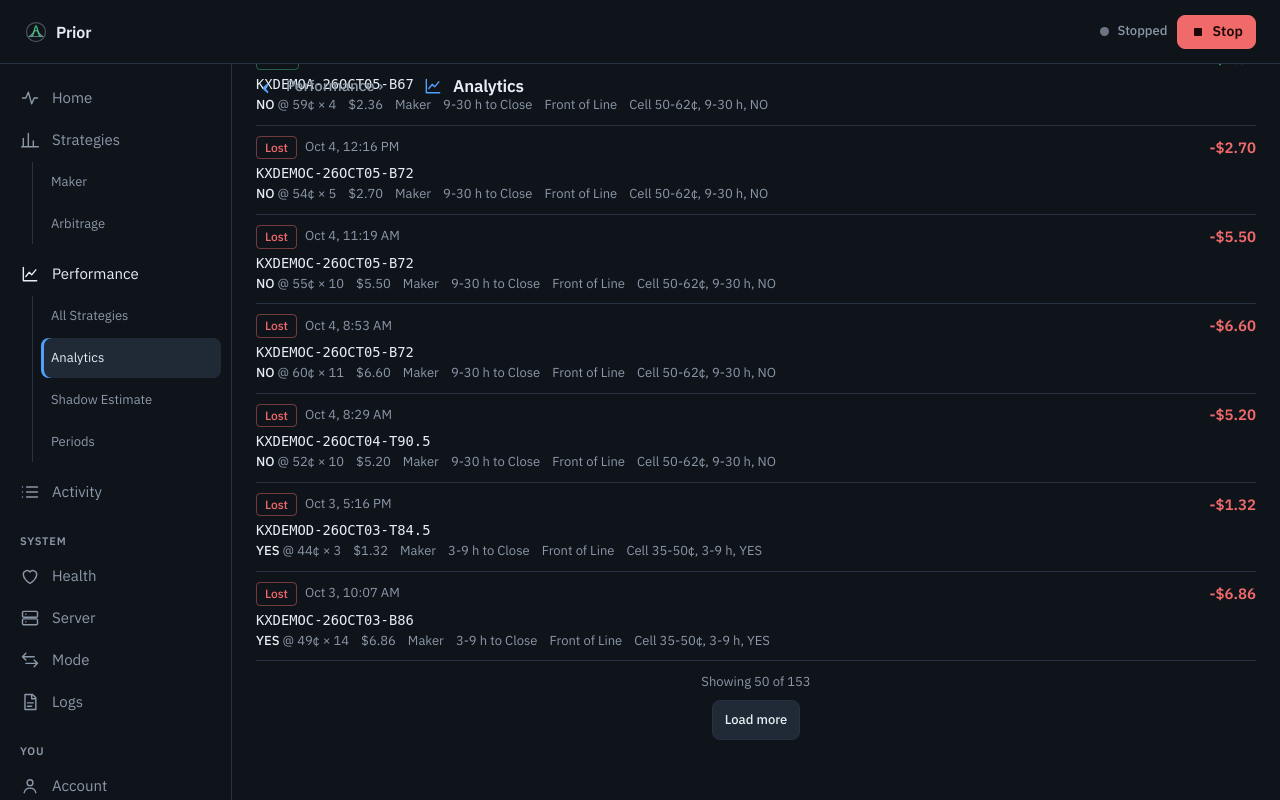
Analytics page › Load more requests the next page and appends it
(page scrolled)
Click the button "Load more".
click(756, 720)  # box left=712, top=700, right=800, bottom=740
(page scrolled)
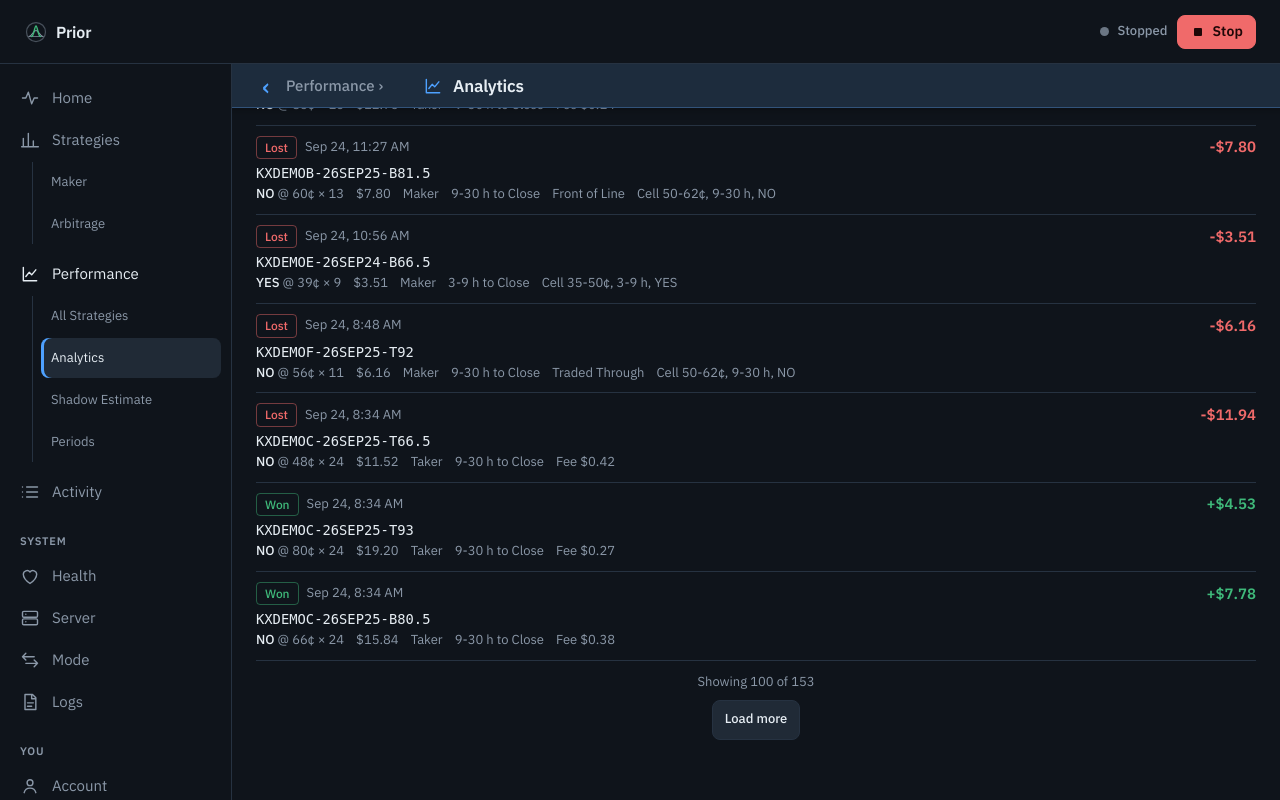
Result: the text "Showing 100 of 153" is shown at left=698, top=673, right=815, bottom=692
